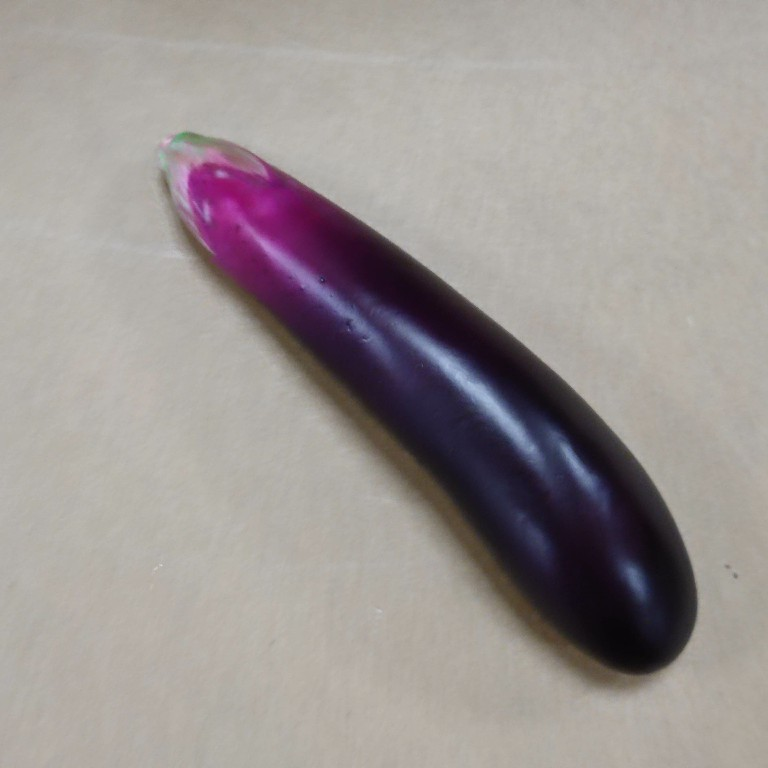fruit_eggplant: (150, 124, 703, 685)
